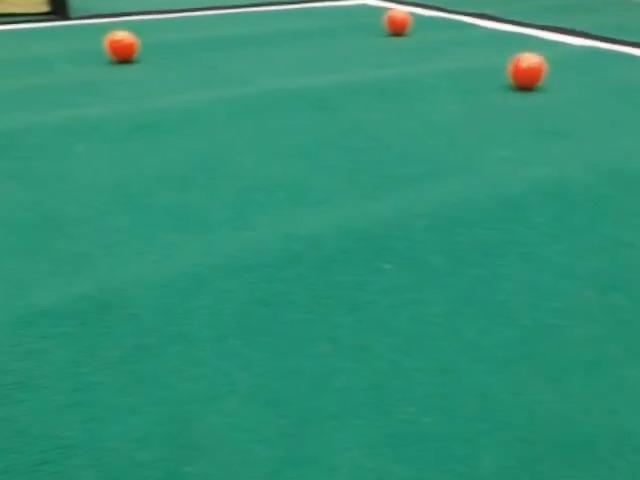Ball: (507, 52, 547, 90), (103, 30, 139, 63), (383, 8, 411, 36)
